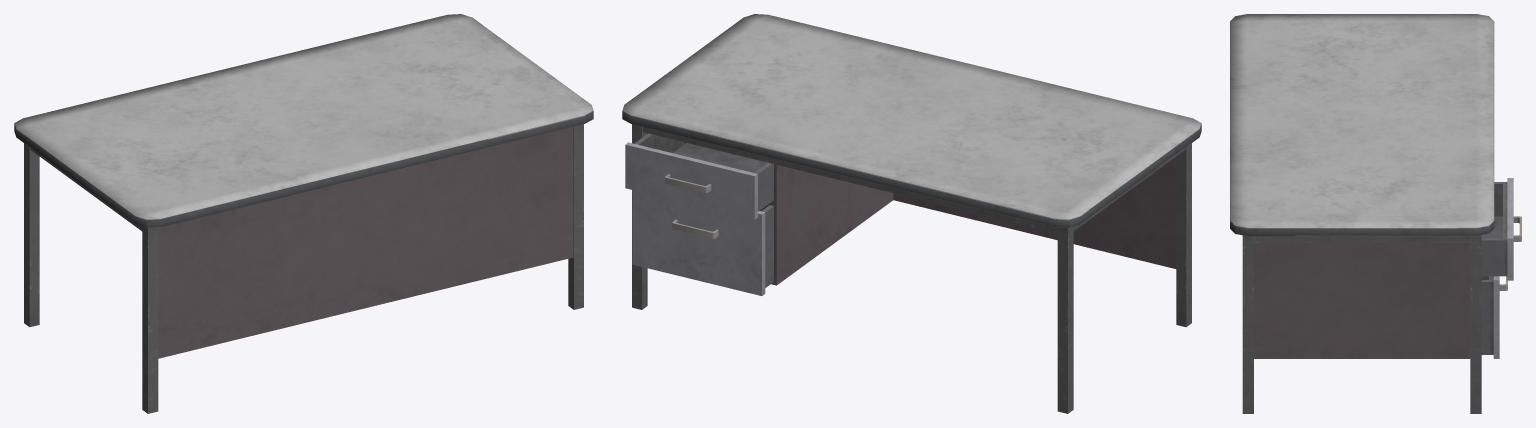
The picture shows the model from 3 angles, left to right: view 1: azimuth 30°, elevation 25°; view 2: azimuth 150°, elevation 25°; view 3: azimuth 270°, elevation 25°; orthographic projection. The views are drawn at different scales.
Parts seen in each view (by area): view 1: LegsBase_low; view 2: LegsBase_low, BDrawer_low, Handle01_low; view 3: LegsBase_low, Handle01_low, BDrawer_low.
Boxes of the visible parts, <box> form: LegsBase_low: <box>14,14,593,413</box>; LegsBase_low: <box>622,14,1201,413</box>; BDrawer_low: <box>632,190,773,295</box>; Handle01_low: <box>625,133,773,219</box>; LegsBase_low: <box>1230,14,1494,413</box>; Handle01_low: <box>1481,178,1521,280</box>; BDrawer_low: <box>1481,276,1507,358</box>.
Bounding box in the file's own units: 2.06 × 0.8551 × 1.19.
Materials: 1 (1 with a texture image).
